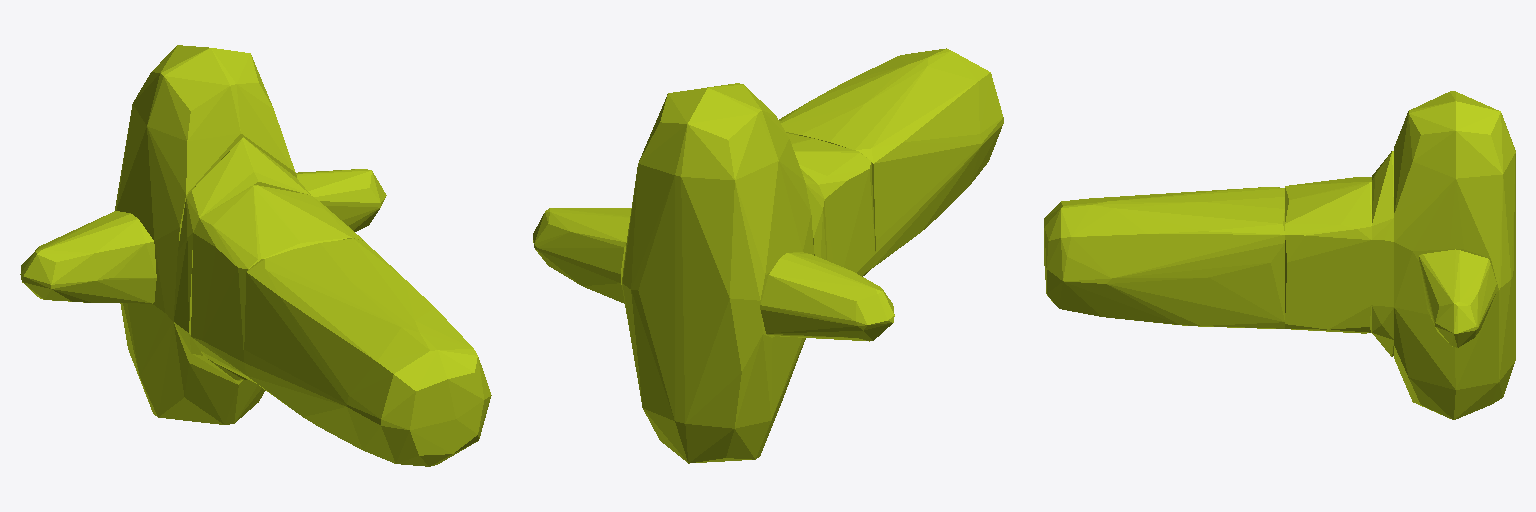
robot.urdf — blob700:
<robot name="blob700">
  <link name="random_obj_700">
    <contact>
      <lateral_friction value="1.0"/>
      <rolling_friction value="0.0"/>
      <inertia_scaling value="3.0"/>
      <contact_cfm value="0.0"/>
      <contact_erp value="1.0"/>
    </contact>
    <inertial>
      <origin rpy="0 0 0" xyz="0 0 0"/>
      <mass value="0.1"/>
      <inertia ixx="1" ixy="0" ixz="0" iyy="1" iyz="0" izz="0"/>
    </inertial>
    <visual>
      <origin rpy="0 0 0" xyz="0 0 0"/>
      <geometry>
        <mesh filename="700.obj" scale="0.015 0.015 0.015"/>
      </geometry>
      <material name="blockmat">
        <color rgba="0.73 0.81 0.15 1"/>
      </material>
    </visual>
    <collision>
      <origin rpy="0 0 0" xyz="0 0 0"/>
      <geometry>
        <mesh filename="700.obj" scale="0.015 0.015 0.015"/>
      </geometry>
    </collision>
  </link>
</robot>

--- What the picture shows (computed from the rendered views, not written in the file) ---
Views: 3 orthographic renders of the robot side by side, from view 1: azimuth 30°, elevation 25°; view 2: azimuth 150°, elevation 25°; view 3: azimuth 270°, elevation 25°.
Robot: blob700 — 1 links, 0 joints (none); root link random_obj_700; default pose: all joints at 0.
Links seen in each view (by area): view 1: random_obj_700; view 2: random_obj_700; view 3: random_obj_700.
Link boxes in pixels (x1,y1,x2,y2): random_obj_700: (20, 45, 491, 466); random_obj_700: (533, 48, 1003, 463); random_obj_700: (1044, 91, 1515, 419).
Size in the robot's own frame: 0.0912 by 0.1215 by 0.0896 metres.
Meshes: 1 distinct files referenced, 1 mesh visuals loaded (1 OBJ).